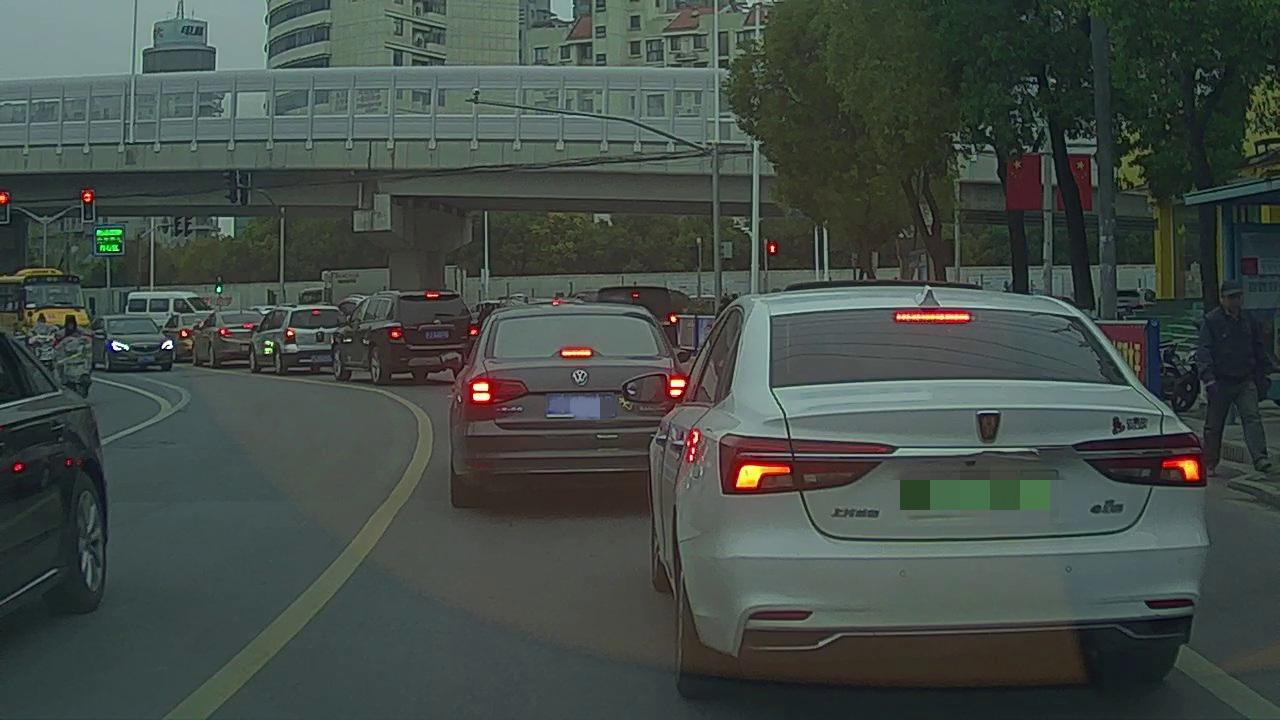traffic_light: (82, 191, 92, 219), (2, 193, 11, 223)
